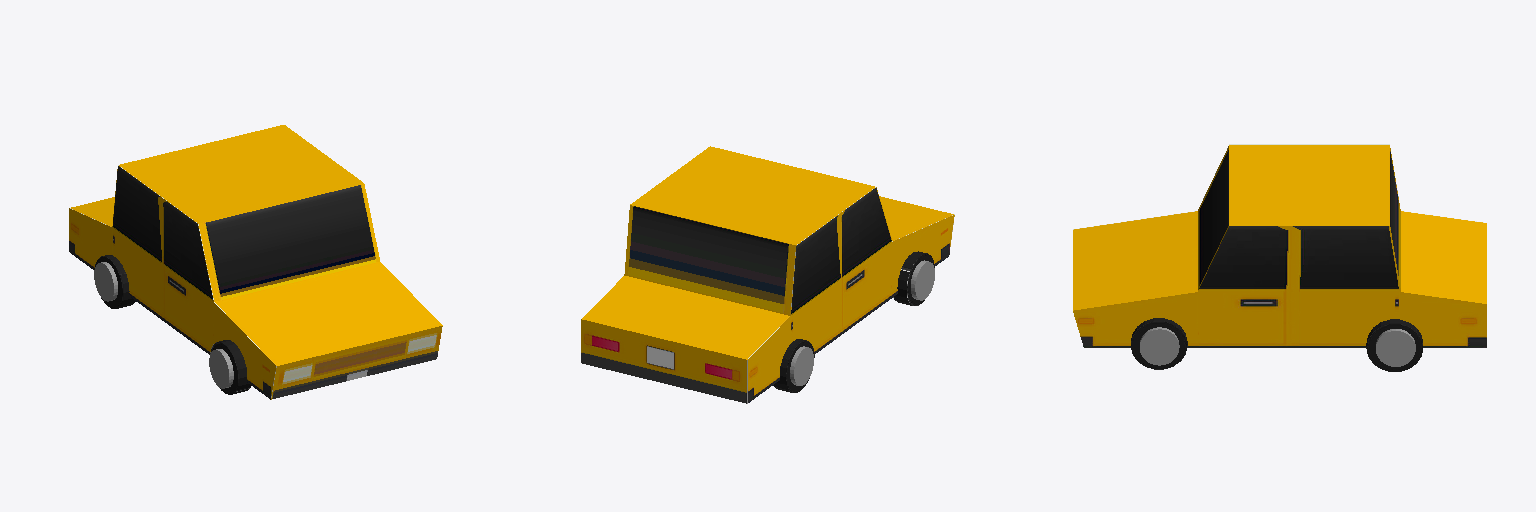
The picture shows the model from 3 angles: view 1: azimuth 30°, elevation 25°; view 2: azimuth 150°, elevation 25°; view 3: azimuth 270°, elevation 25°; orthographic projection.
Parts seen in each view (by area): view 1: chassis_Car_04.001, wheel-front-left_Car_04.003, wheel-back-right_Car_04, Cylinder_Cylinder.010, Cylinder.001_Cylinder.011; view 2: chassis_Car_04.001, wheel-front-left_Car_04.003, Cylinder_Cylinder.010, wheel-back-right_Car_04, Cylinder.001_Cylinder.011; view 3: chassis_Car_04.001, Cylinder.001_Cylinder.011, Cylinder_Cylinder.010, wheel-back-left_Car_04.004, wheel-front-right_Car_04.002.
Boxes of the visible parts, box(x1,y1,x2,y2) form: chassis_Car_04.001: box(69, 125, 442, 399); wheel-front-left_Car_04.003: box(210, 340, 250, 394); wheel-back-right_Car_04: box(95, 255, 135, 308); Cylinder_Cylinder.010: box(209, 349, 233, 388); Cylinder.001_Cylinder.011: box(94, 262, 117, 301); chassis_Car_04.001: box(581, 146, 954, 403); wheel-front-left_Car_04.003: box(893, 251, 934, 305); Cylinder_Cylinder.010: box(911, 260, 934, 300); wheel-back-right_Car_04: box(773, 339, 814, 392); Cylinder.001_Cylinder.011: box(790, 346, 813, 385); chassis_Car_04.001: box(1073, 144, 1486, 347); Cylinder.001_Cylinder.011: box(1376, 329, 1415, 366); Cylinder_Cylinder.010: box(1140, 327, 1179, 365); wheel-back-left_Car_04.004: box(1366, 319, 1422, 371); wheel-front-right_Car_04.002: box(1131, 318, 1187, 369).
Size of the model in its own units: 2.07 by 1.45 by 3.83.
10 materials, 1 textured.